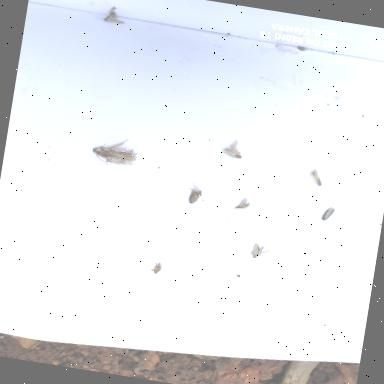pbw: (89, 133, 139, 169), (249, 242, 272, 262), (220, 142, 243, 159), (322, 206, 336, 224), (193, 190, 202, 204), (187, 192, 196, 204)
